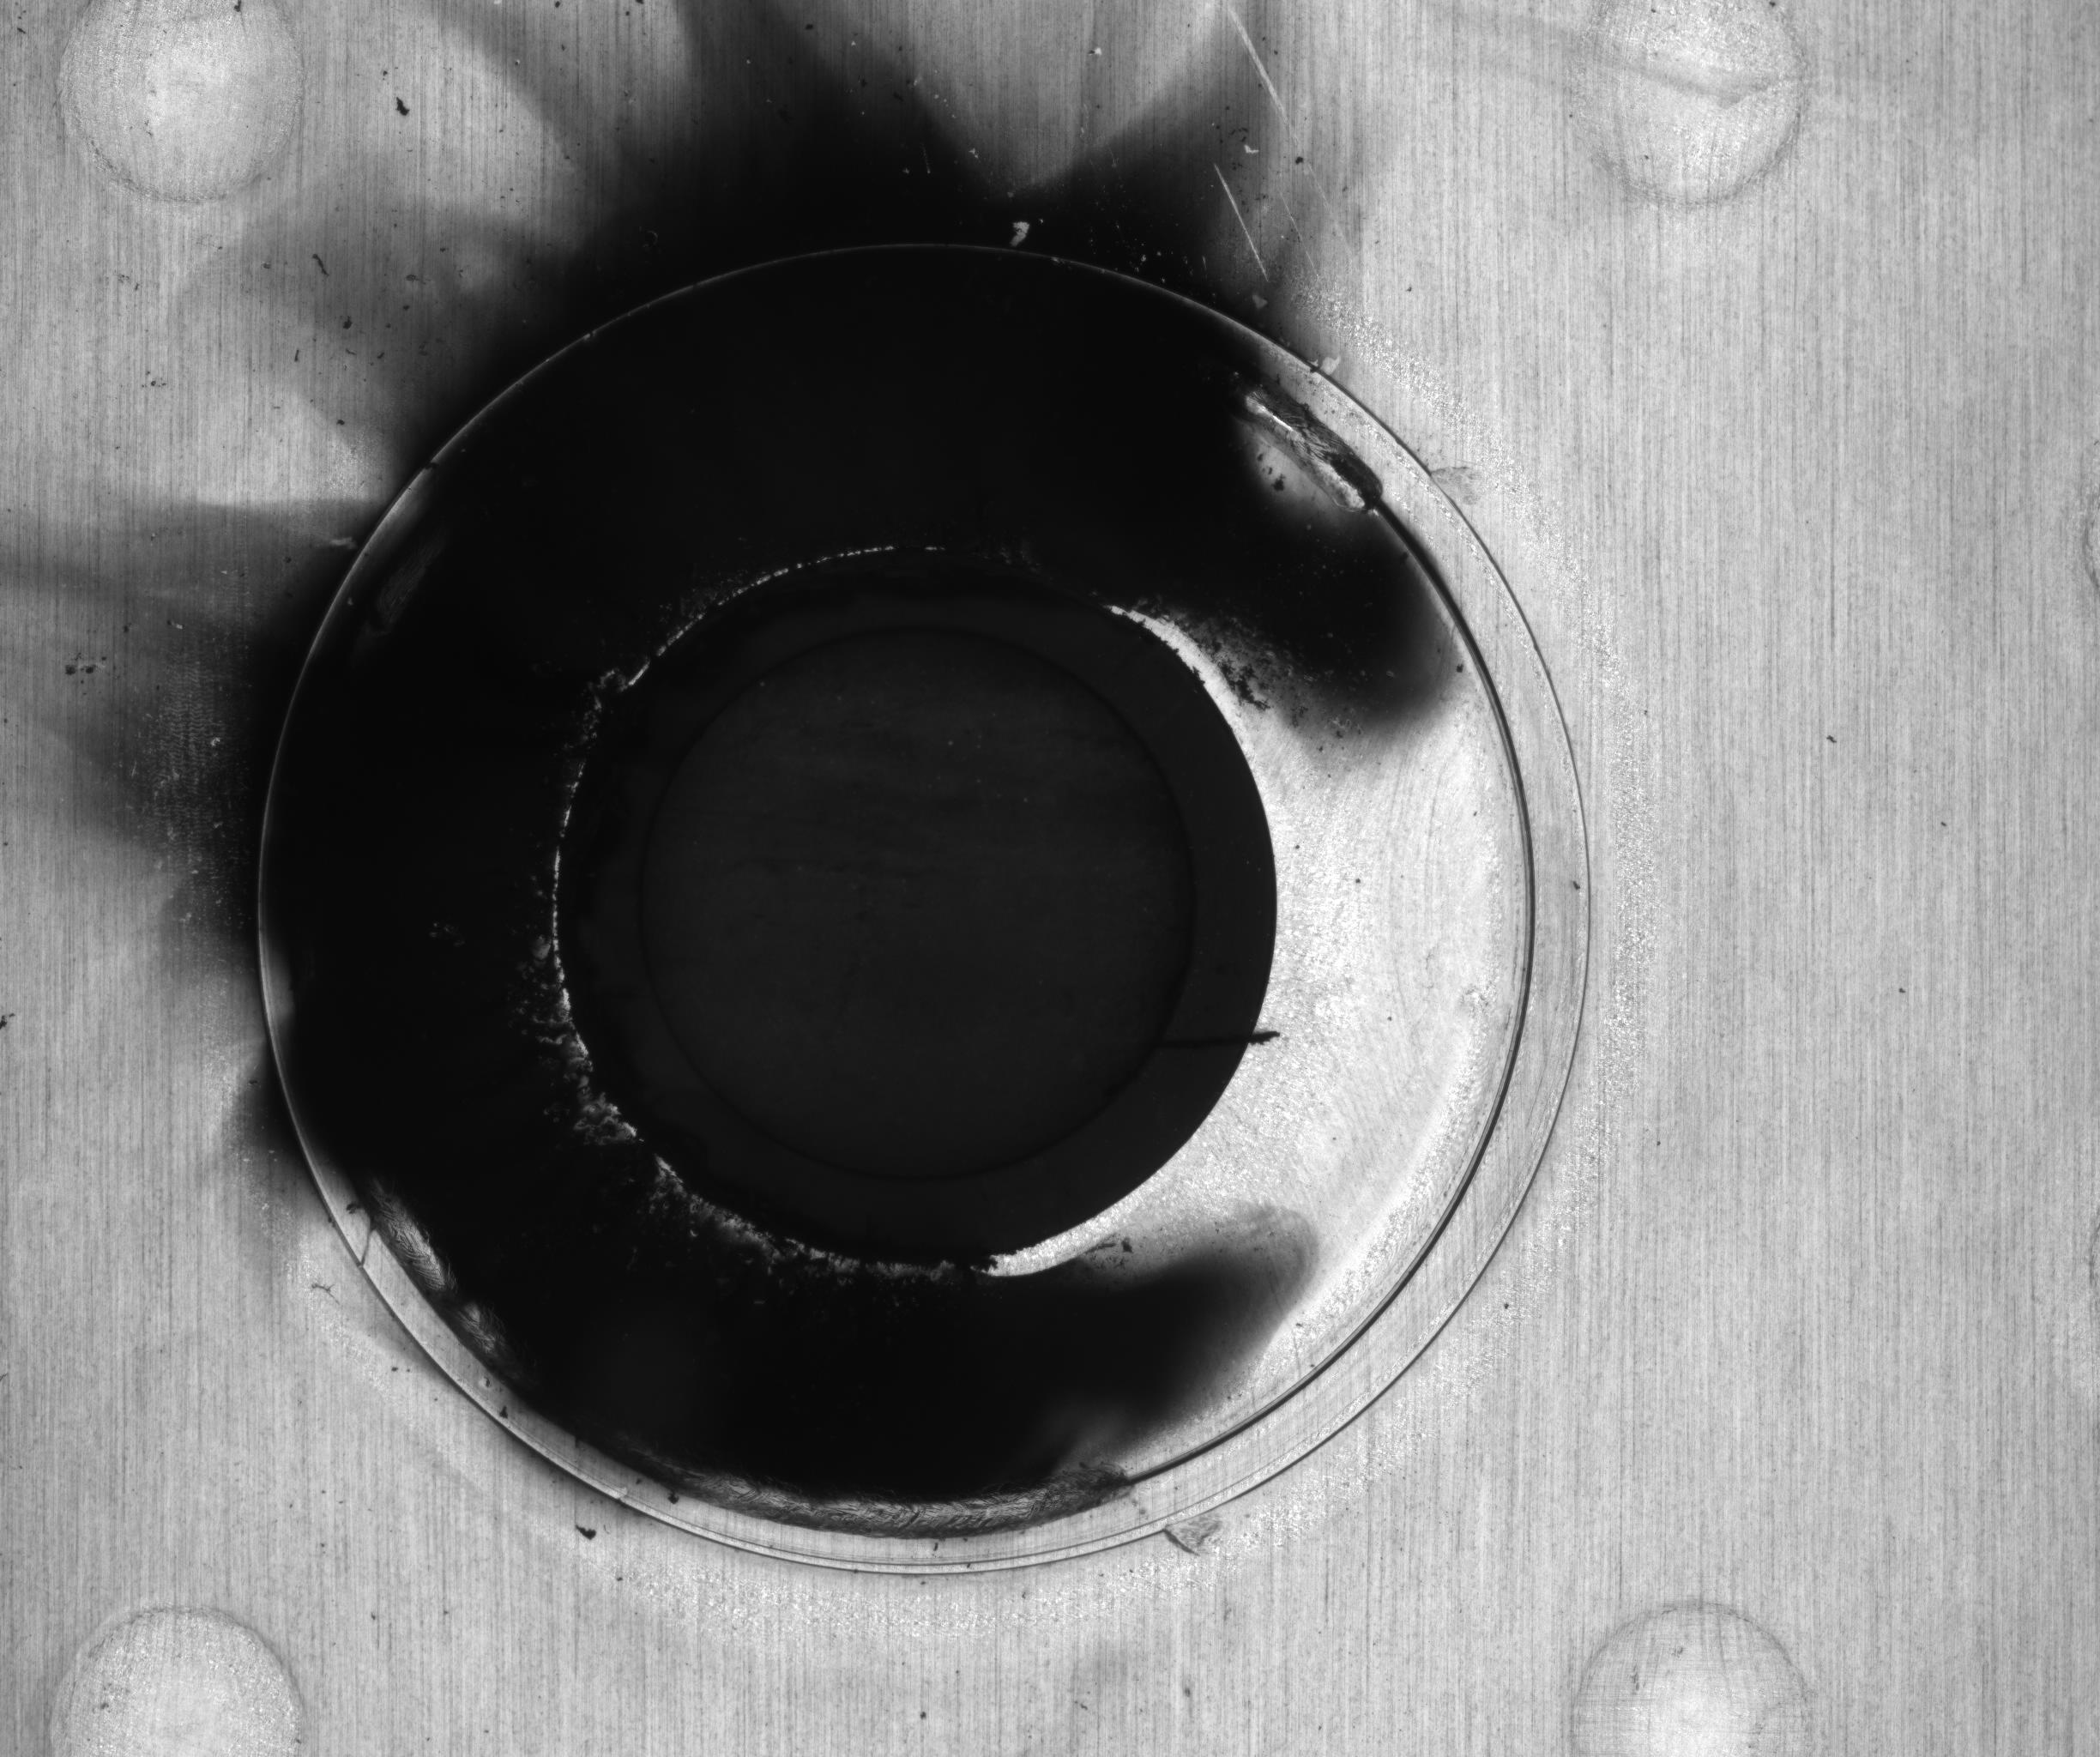burn: (103, 113, 1460, 1560)
